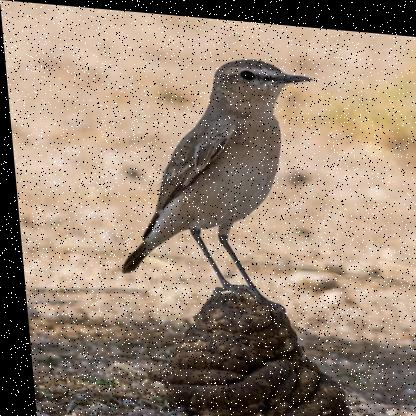Burung: (84, 26, 335, 313)
